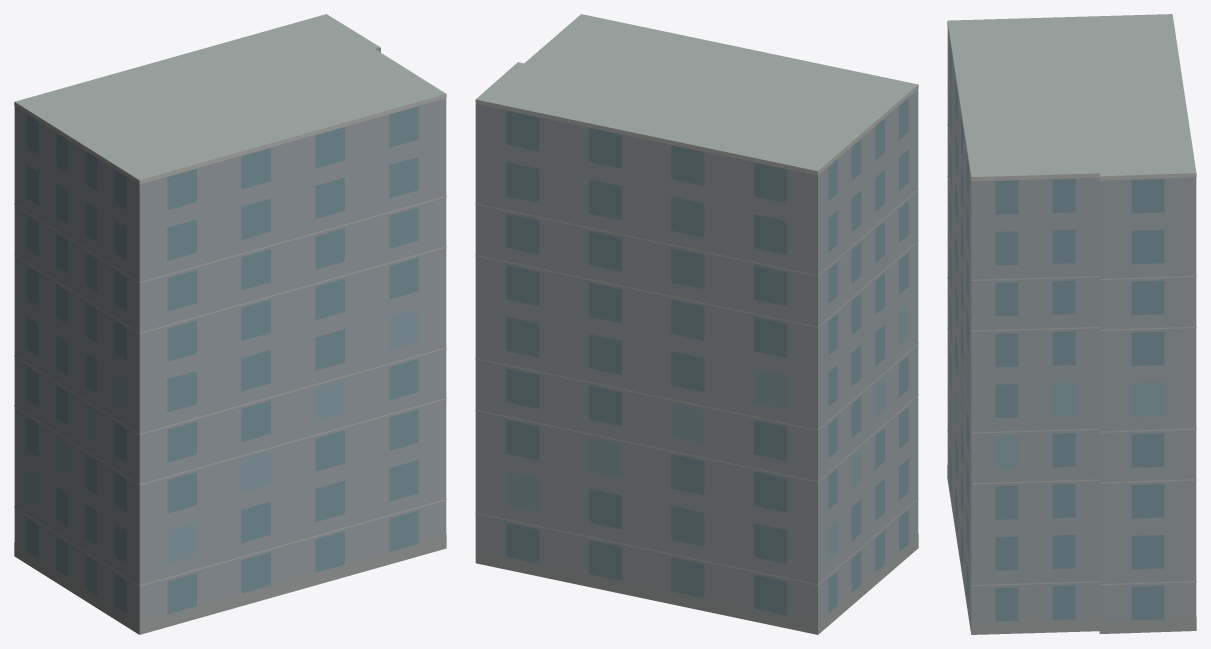
The model's file is survey-upis-32650292.glb.
3 views of the same model, side by side, from view 1: azimuth 30°, elevation 25°; view 2: azimuth 150°, elevation 25°; view 3: azimuth 270°, elevation 25° (orthographic).
Parts seen in each view (by area): view 1: survey-upis-32650292.tmp; view 2: survey-upis-32650292.tmp; view 3: survey-upis-32650292.tmp.
Part boxes in pixels (x1,y1,x2,y2): survey-upis-32650292.tmp: [14, 14, 446, 634]; survey-upis-32650292.tmp: [475, 14, 918, 634]; survey-upis-32650292.tmp: [947, 14, 1196, 634].
Size of the model in its own units: 20.1 by 26.27 by 12.98.
